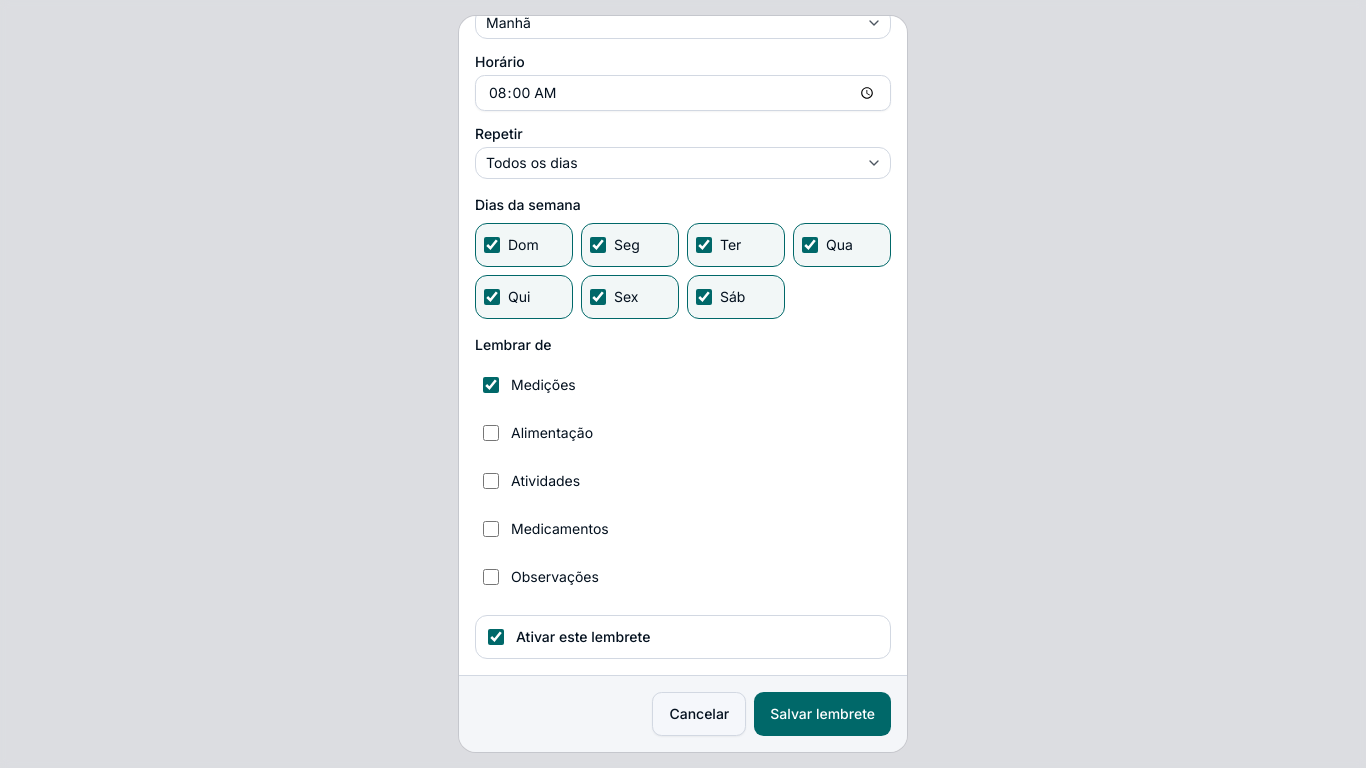
Test: NotificationScheduleDialog › shows the failure returned by the parent and stays open
(page scrolled)
Click the button "Salvar lembrete". click: (823, 714)
box: 754,692 -> 891,736
(page scrolled)
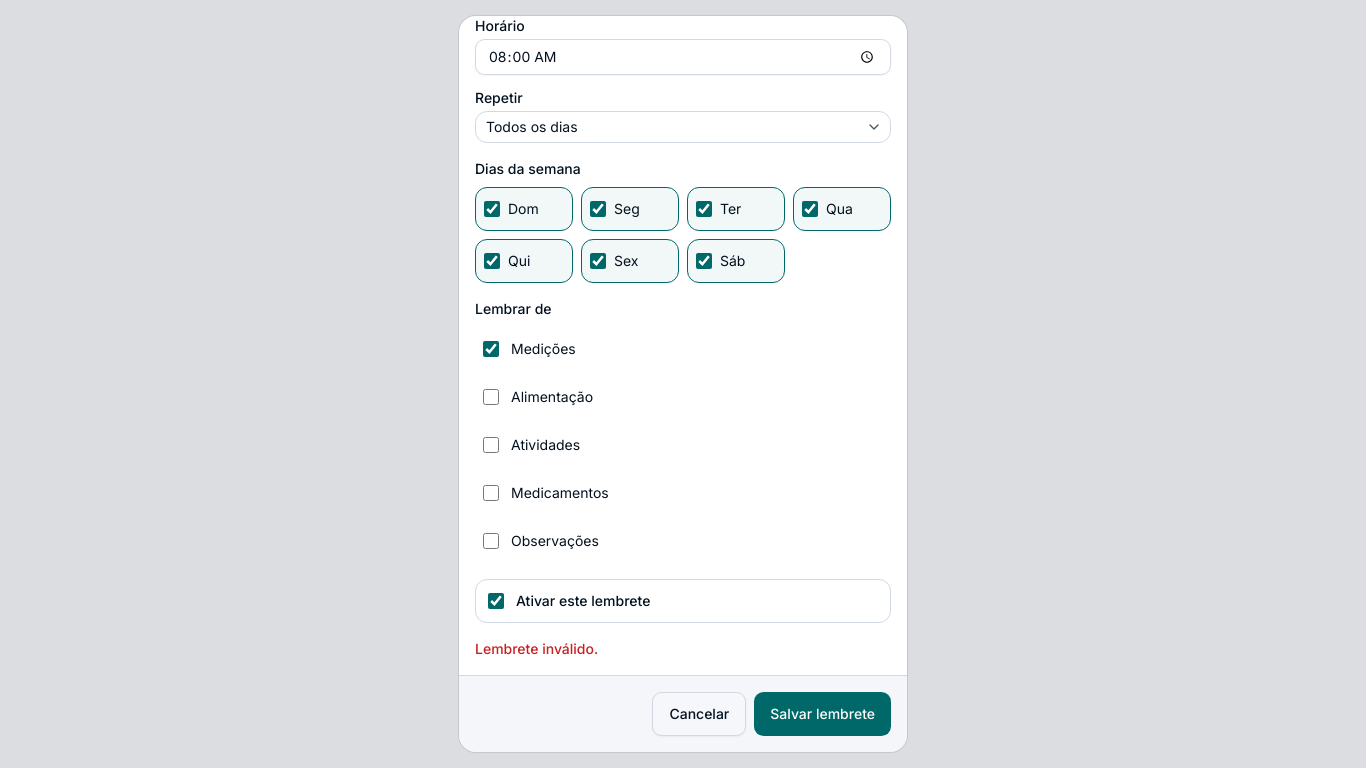
expect the message reads "Lembrete inválido.": met, box 475,640 -> 598,657
